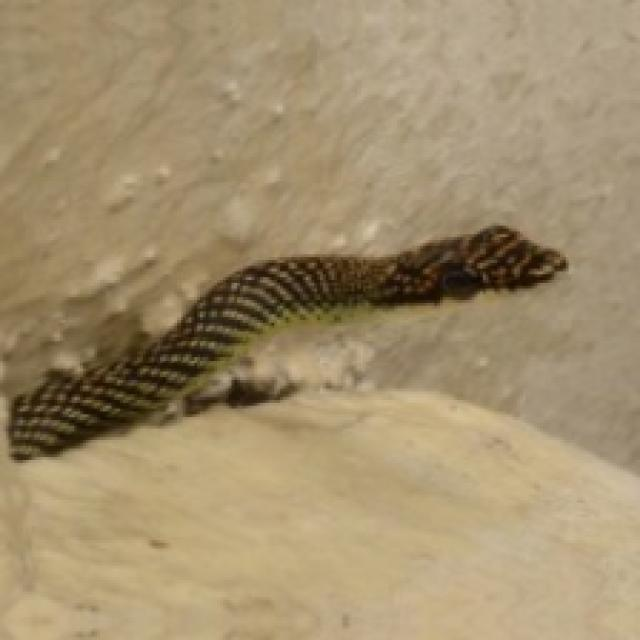paradise tree snake: (9, 226, 566, 457)
